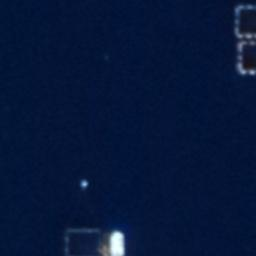square_solid: (60, 223, 108, 256), (230, 1, 256, 41), (234, 36, 256, 77)
